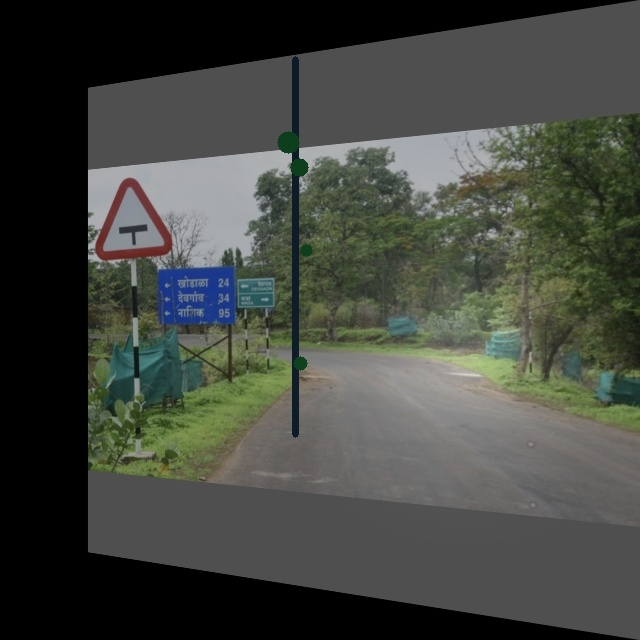T_Intersection: (97, 171, 174, 259)
